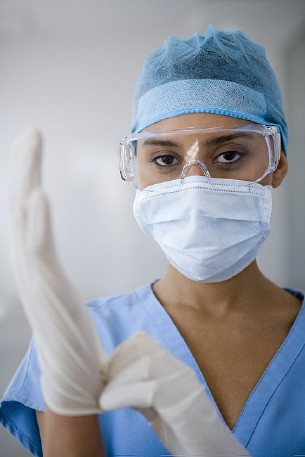Mask: (131, 126, 289, 284)
